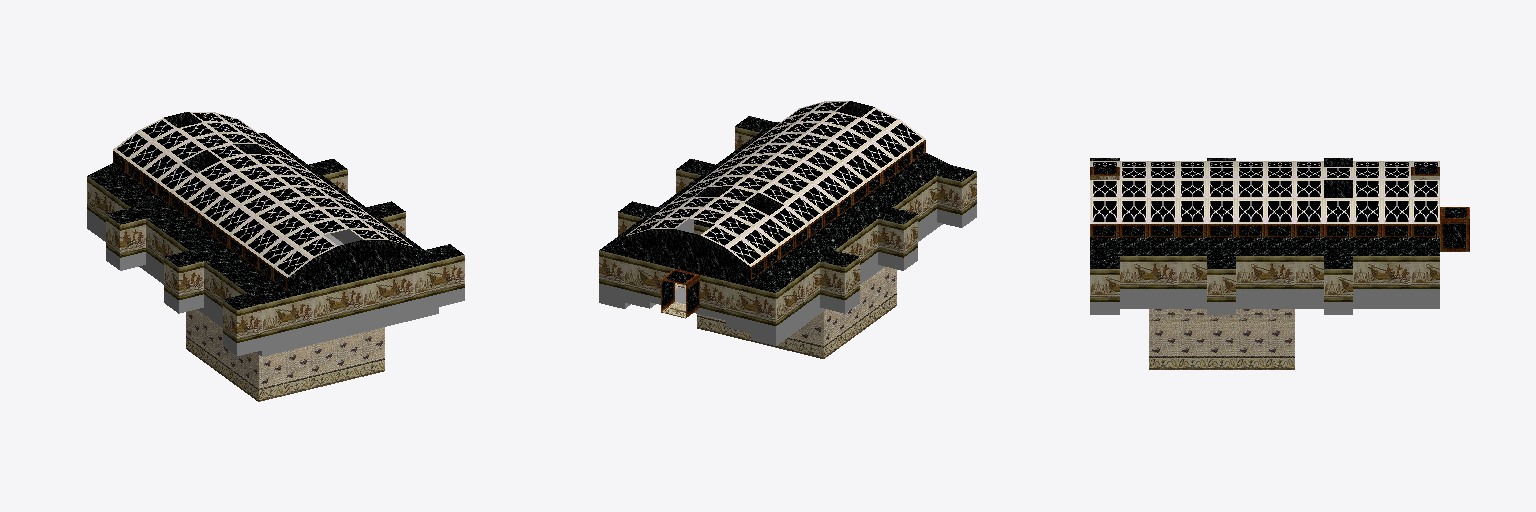
The picture shows the model from 3 angles: view 1: azimuth 30°, elevation 25°; view 2: azimuth 150°, elevation 25°; view 3: azimuth 270°, elevation 25°; orthographic projection.
Visible parts, largest first — view 1: Texture_1643_mesh__Texture_1643_mesh_.003, Texture_1536_mesh_.001, Texture_1523_mesh__Texture_1523_mesh_.000; view 2: Texture_1643_mesh__Texture_1643_mesh_.003, Texture_1523_mesh__Texture_1523_mesh_.000, Texture_1536_mesh_.001; view 3: Texture_1643_mesh__Texture_1643_mesh_.003, Texture_1536_mesh_.001, Texture_1523_mesh__Texture_1523_mesh_.000.
Boxes of the visible parts, box(x1,y1,x2,y2) form: Texture_1643_mesh__Texture_1643_mesh_.003: box(87, 112, 464, 342); Texture_1536_mesh_.001: box(186, 309, 384, 401); Texture_1523_mesh__Texture_1523_mesh_.000: box(87, 209, 464, 356); Texture_1643_mesh__Texture_1643_mesh_.003: box(599, 101, 976, 325); Texture_1523_mesh__Texture_1523_mesh_.000: box(599, 204, 976, 345); Texture_1536_mesh_.001: box(697, 267, 896, 358); Texture_1643_mesh__Texture_1643_mesh_.003: box(1090, 158, 1469, 301); Texture_1536_mesh_.001: box(1149, 309, 1294, 369); Texture_1523_mesh__Texture_1523_mesh_.000: box(1090, 289, 1439, 314).
Bounding box in the file's own units: 9.22 × 6.4 × 13.31.
Materials: 4 (1 with a texture image).